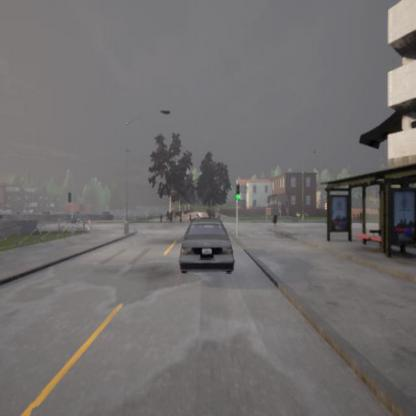traffic_light_green: (236, 187, 241, 200)
vehicle: (178, 220, 235, 275)
